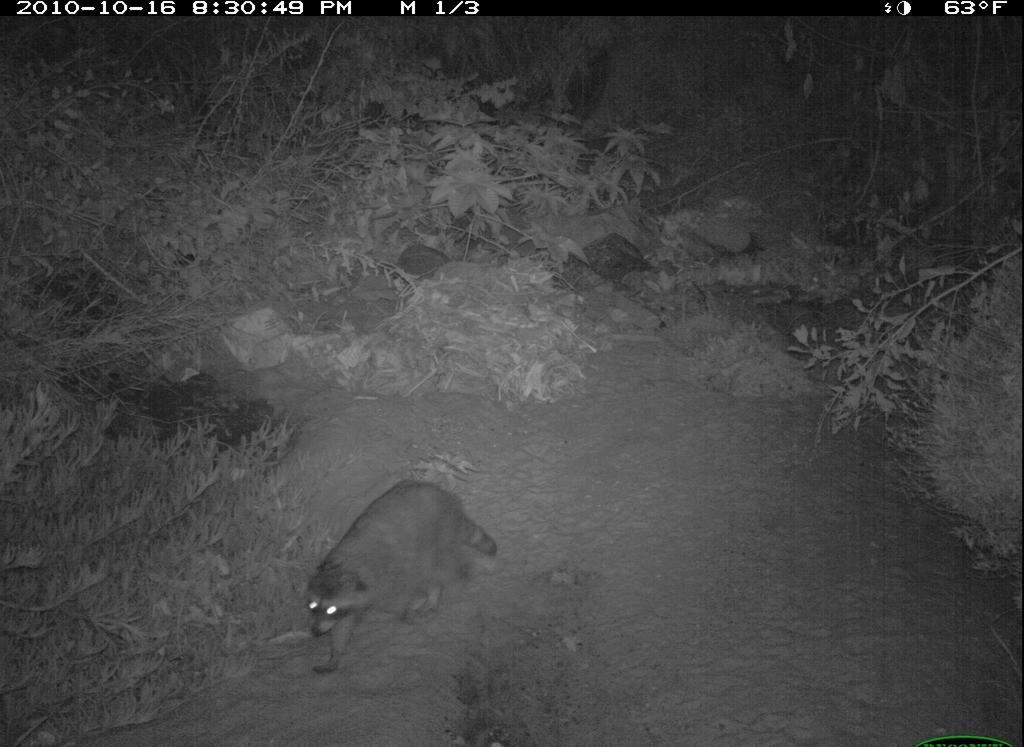raccoon: (305, 477, 502, 685)
